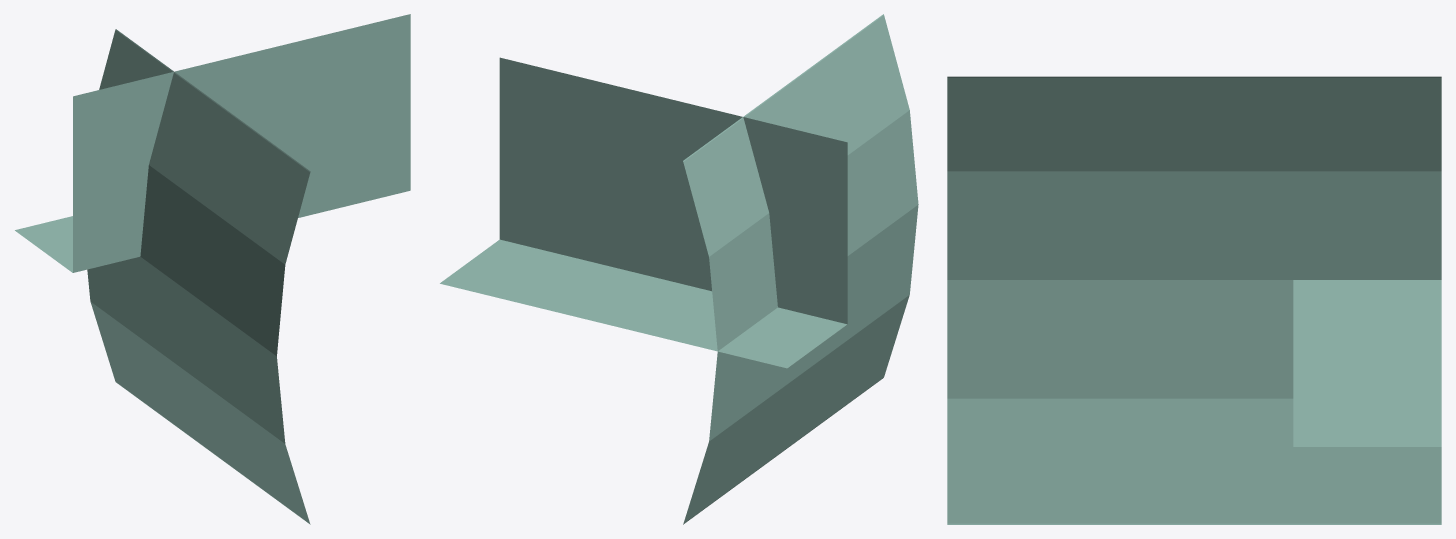
File: cell_101.obj
The picture shows the model from 3 angles, left to right: view 1: azimuth 30°, elevation 25°; view 2: azimuth 150°, elevation 25°; view 3: azimuth 270°, elevation 25°; orthographic projection. The views are drawn at different scales.
Bounding box in the file's own units: 1 × 1 × 1.
